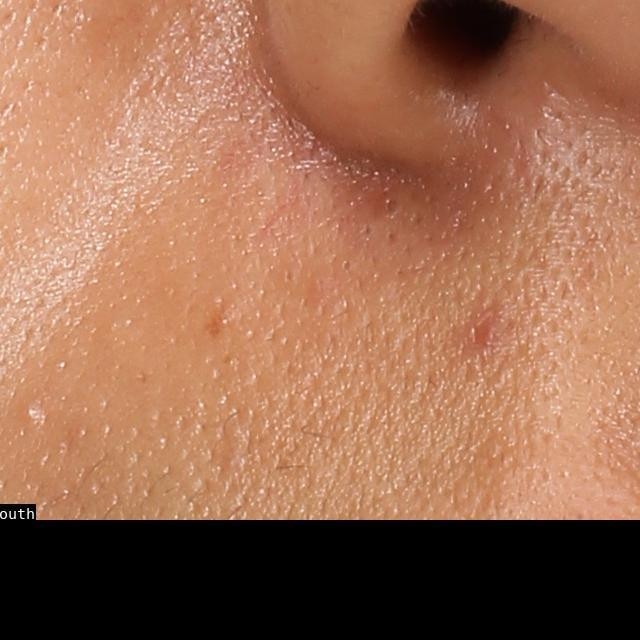comedo: (18, 400, 47, 426), (379, 195, 404, 219)
nevus: (202, 314, 227, 336)
